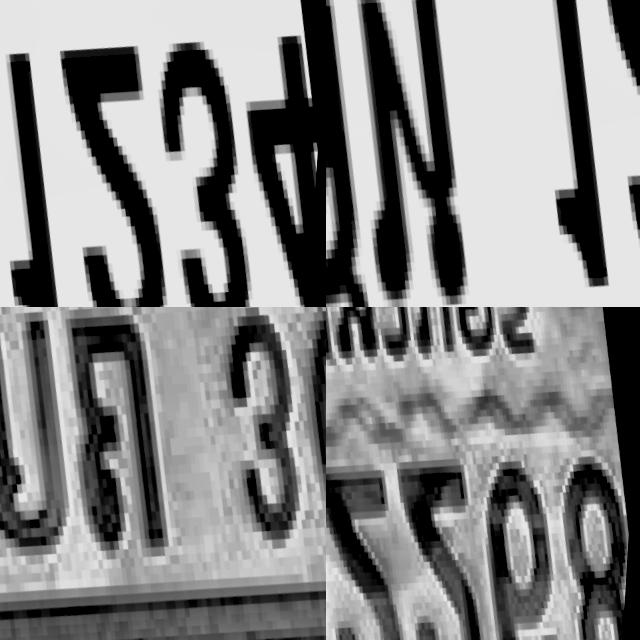license-plate: (0, 307, 326, 640), (326, 307, 640, 640), (0, 0, 326, 307), (326, 0, 640, 307)
